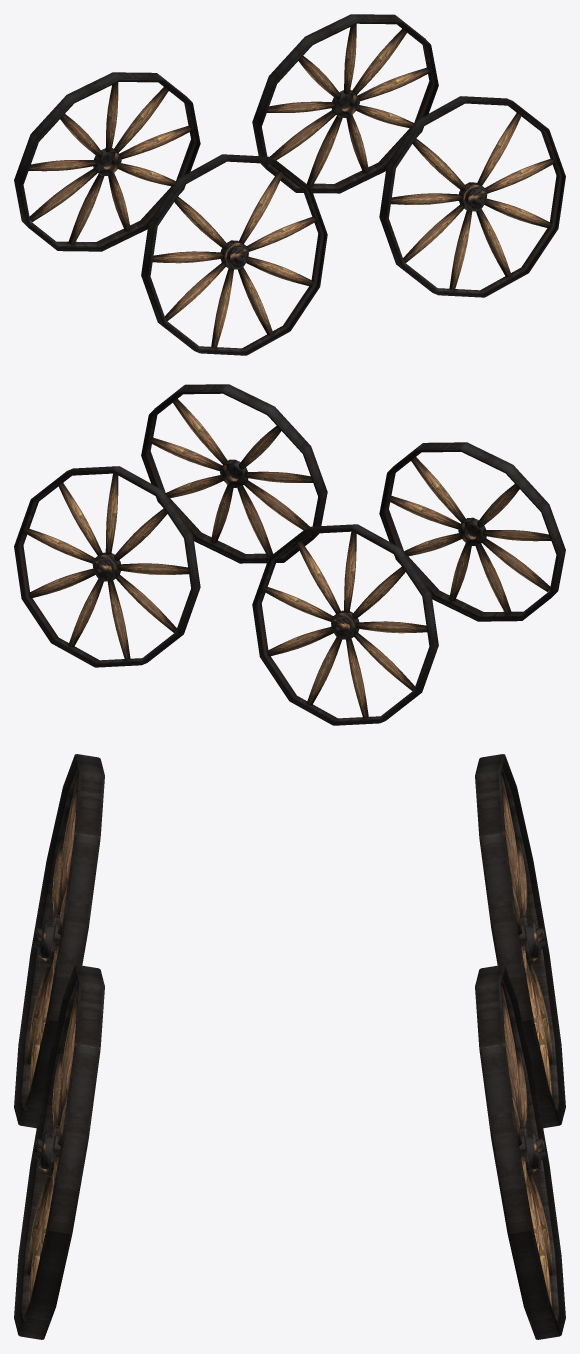
Rendered from wagon01_wheel.FBX.
3 renders of one model, top to bottom at view 1: azimuth 30°, elevation 25°; view 2: azimuth 150°, elevation 25°; view 3: azimuth 270°, elevation 25°, orthographic. The views are drawn at different scales.
Parts seen in each view (by area): view 1: wagon01_wheel; view 2: wagon01_wheel; view 3: wagon01_wheel.
Part boxes in pixels (x1,y1,x2,y2): wagon01_wheel: [14, 14, 565, 355]; wagon01_wheel: [14, 384, 565, 725]; wagon01_wheel: [14, 754, 565, 1339].
Bounding box in the file's own units: 405 × 174 × 255.
